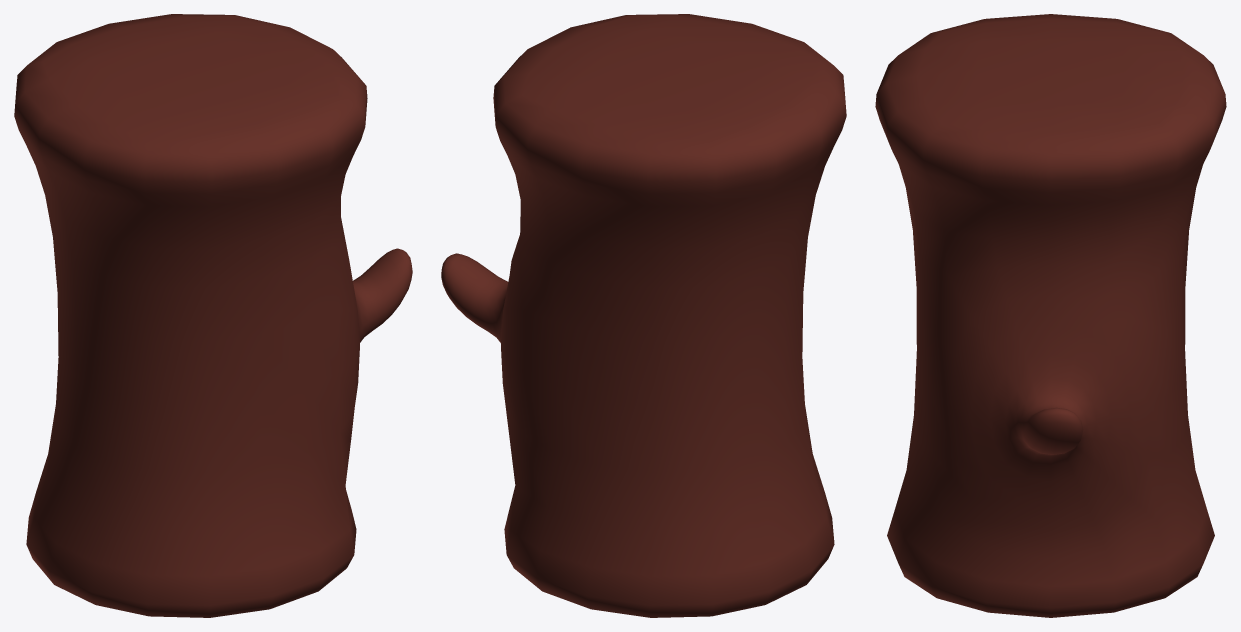
Rendered from log-2.fbx.
The picture shows the model from 3 angles, left to right: view 1: azimuth 30°, elevation 25°; view 2: azimuth 150°, elevation 25°; view 3: azimuth 270°, elevation 25°; orthographic projection.
Parts seen in each view (by area): view 1: log-2; view 2: log-2; view 3: log-2.
Boxes of the visible parts, x1,y1,x2,y2 form: log-2: (14,14,412,617); log-2: (441,14,846,617); log-2: (875,14,1226,617).
Size of the model in its own units: 237 by 302 by 194.
